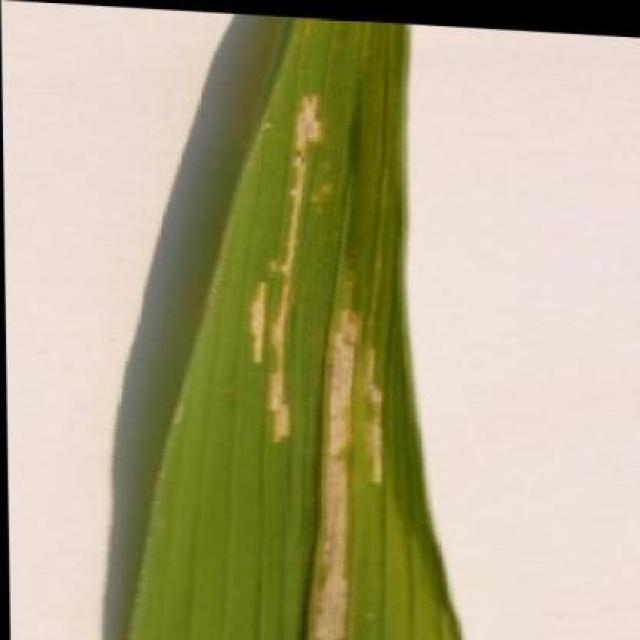Brown_Spot: (120, 6, 478, 640)
